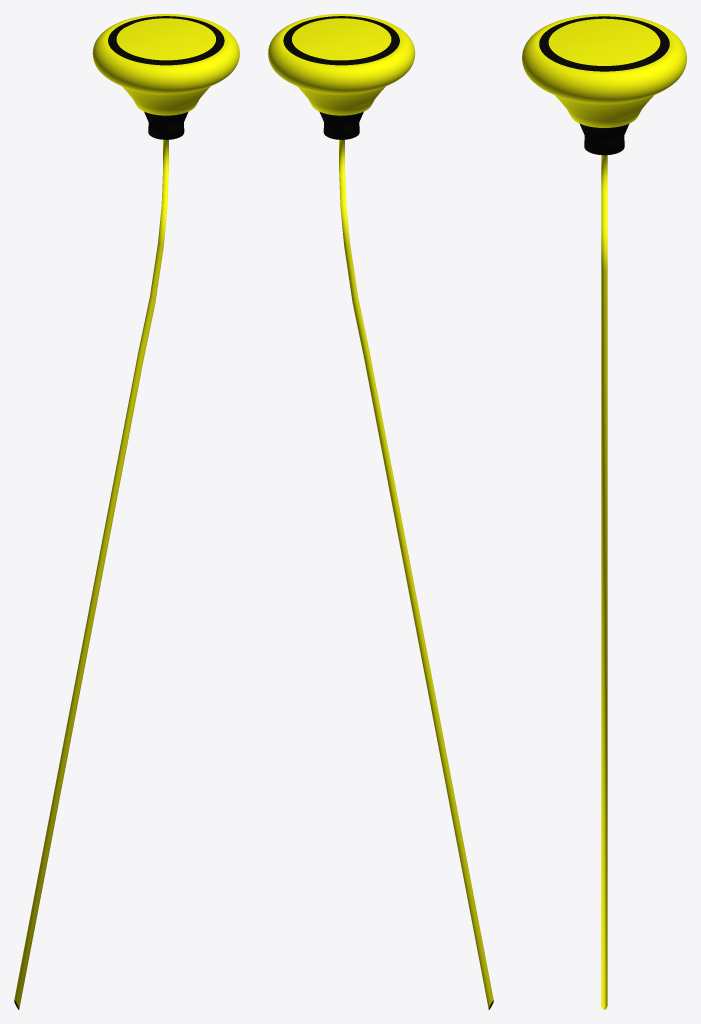
The model's file is buoy.fbx.
The picture shows the model from 3 angles, left to right: view 1: azimuth 30°, elevation 25°; view 2: azimuth 150°, elevation 25°; view 3: azimuth 270°, elevation 25°; orthographic projection. The views are drawn at different scales.
Visible parts, largest first — view 1: Torus; view 2: Torus; view 3: Torus.
Part boxes in pixels (x1,y1,x2,y2): Torus: [14, 14, 239, 1009]; Torus: [268, 14, 493, 1009]; Torus: [522, 14, 686, 1009].
Size of the model in its own units: 423 by 1753 by 250.
